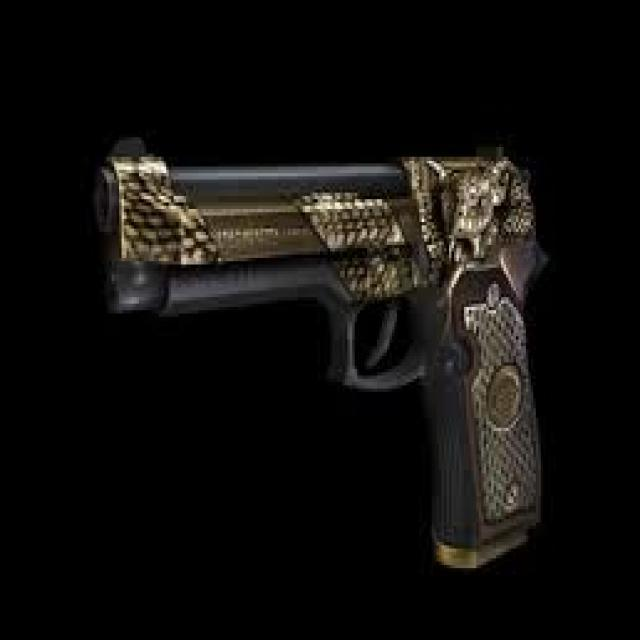semi automatic: (88, 122, 552, 590)
